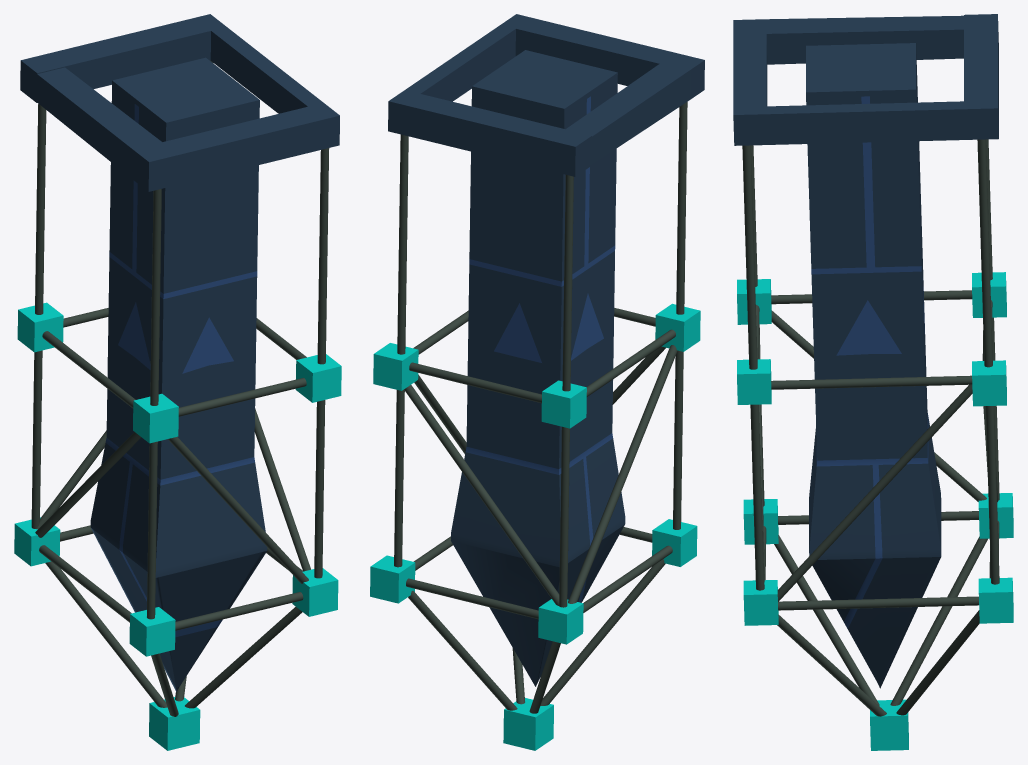
Rendered from Torre_señal_pequeña_invertida.fbx.
3 views of the same model, side by side, from view 1: azimuth 30°, elevation 25°; view 2: azimuth 150°, elevation 25°; view 3: azimuth 270°, elevation 25° (orthographic). The views are drawn at different scales.
Visible parts, largest first — view 1: pCube29; view 2: pCube29; view 3: pCube29.
Boxes of the visible parts, box(x1,y1,x2,y2) form: pCube29: box(14, 14, 341, 750); pCube29: box(370, 14, 704, 750); pCube29: box(733, 14, 1013, 750).
Size of the model in its own units: 2.84 by 8.95 by 3.35.
